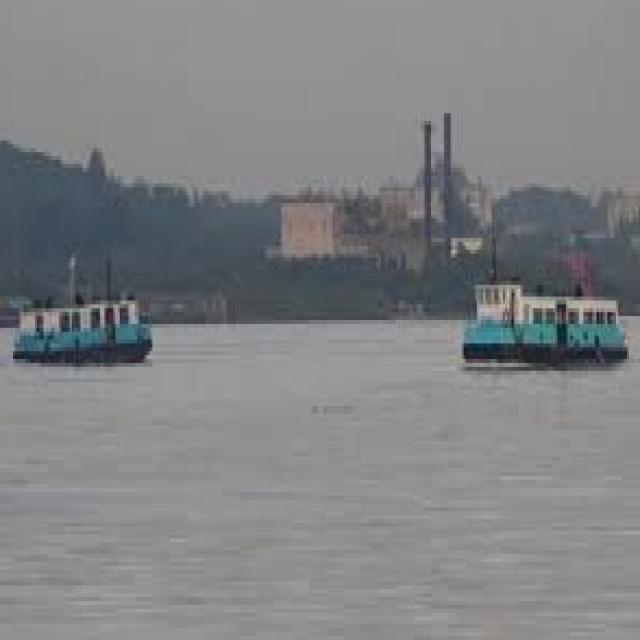houseboat: (0, 262, 170, 378), (444, 266, 629, 371)
